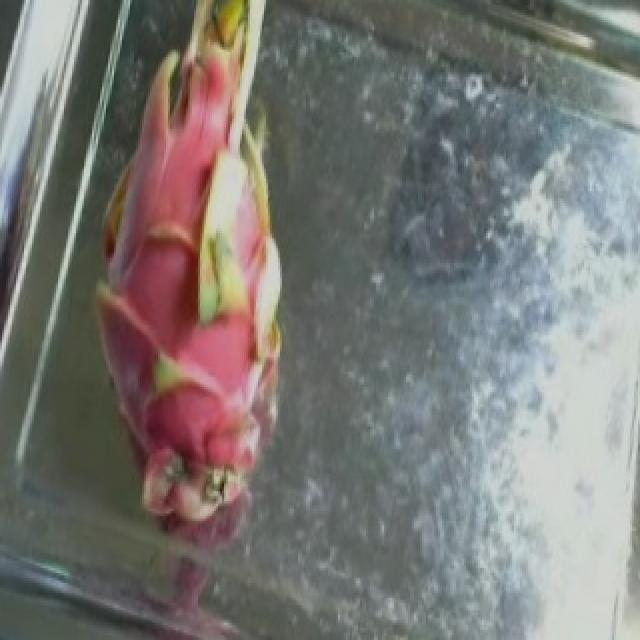fruit: (4, 2, 368, 426)
